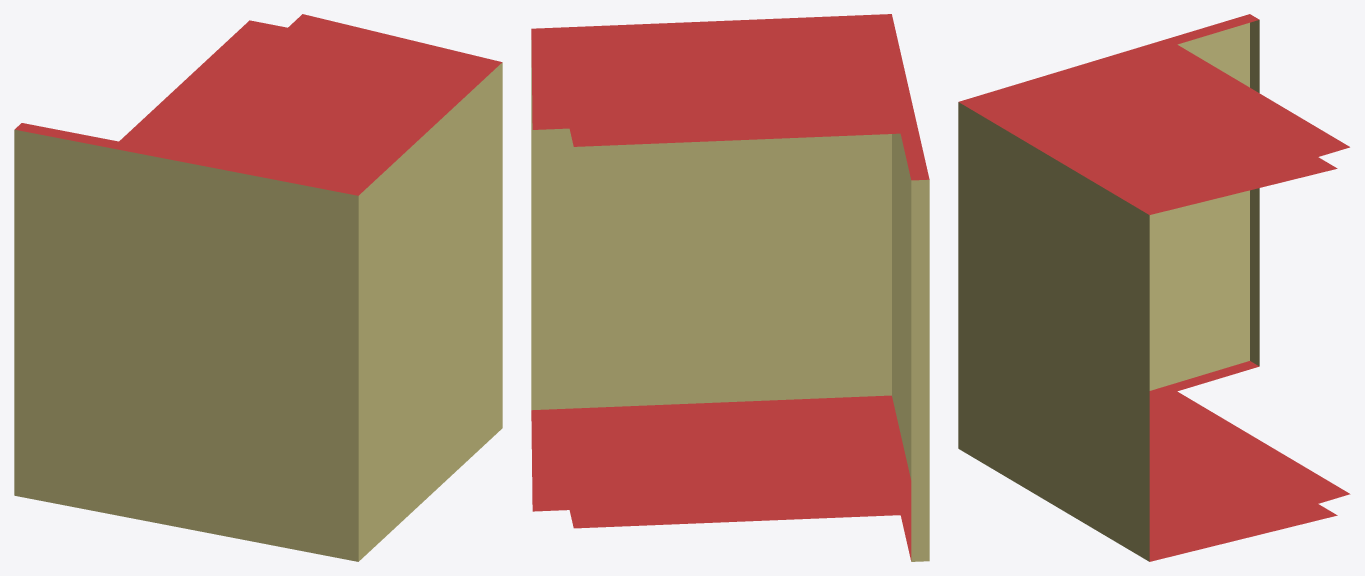
The picture shows the model from 3 angles, left to right: view 1: azimuth 30°, elevation 25°; view 2: azimuth 150°, elevation 25°; view 3: azimuth 270°, elevation 25°; orthographic projection. The views are drawn at different scales.
Size of the model in its own units: 7.09 by 5.85 by 5.7.
